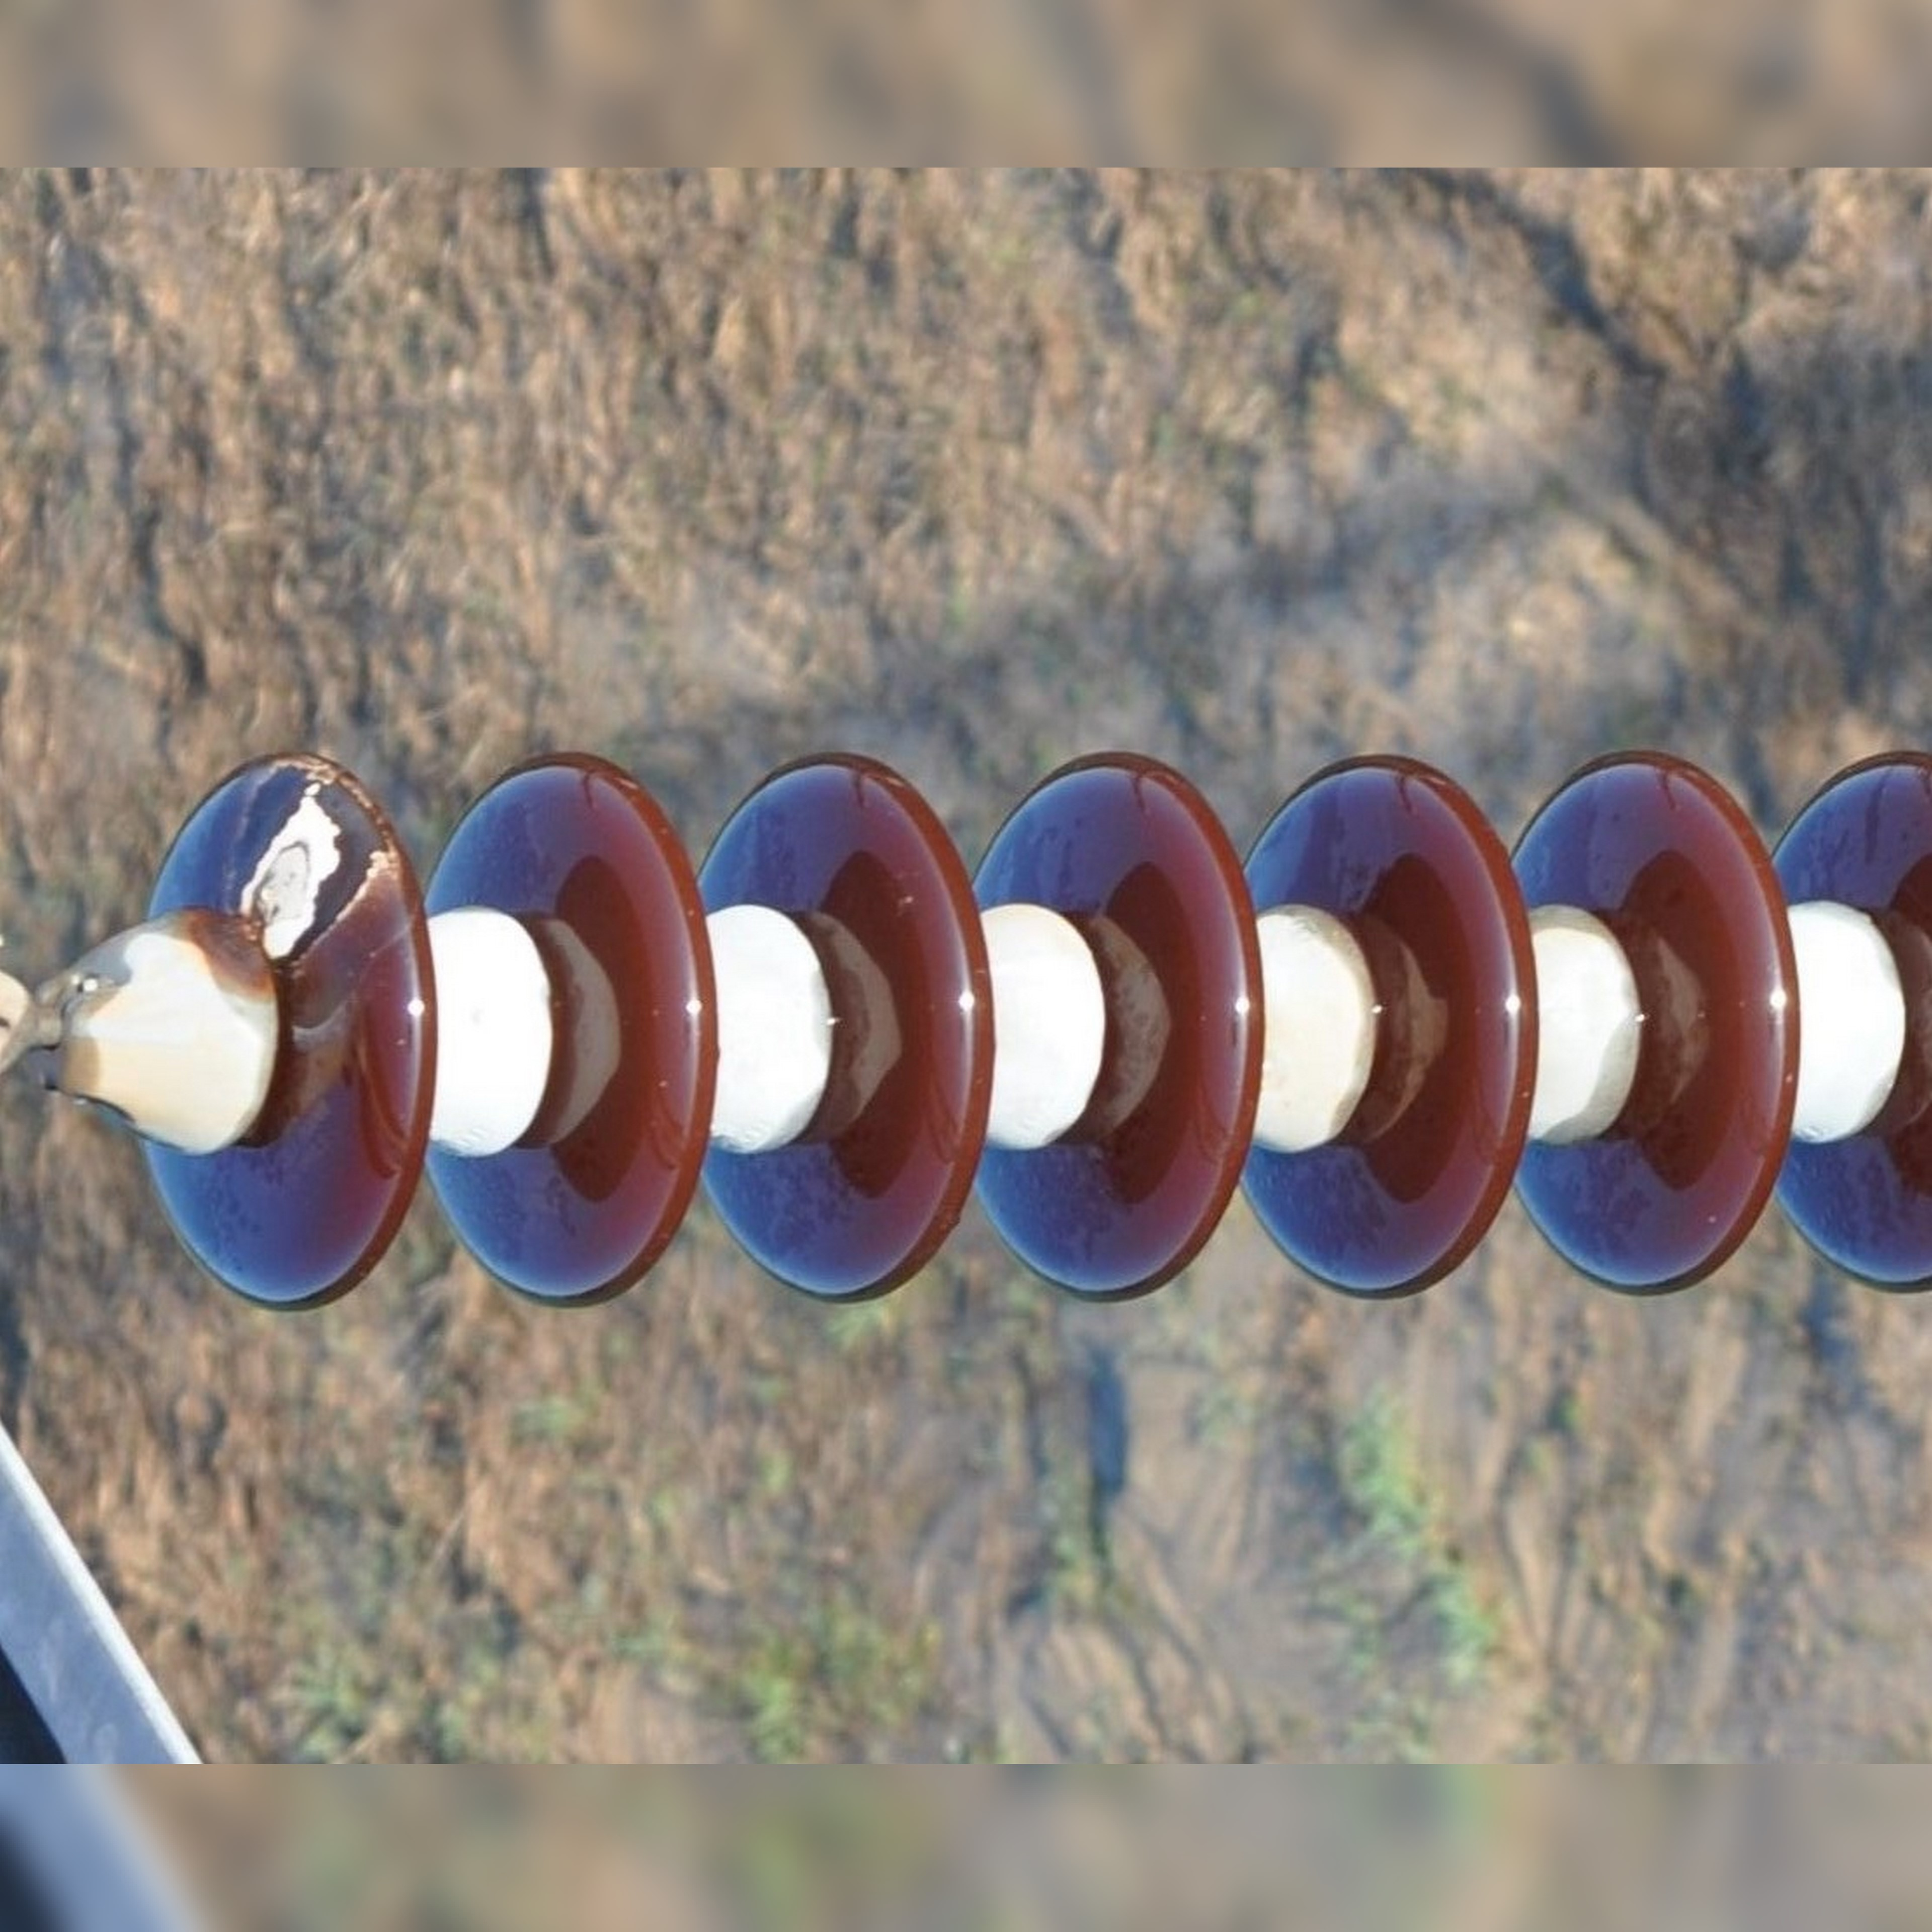Insulator flashover: (120, 725, 462, 1316)
